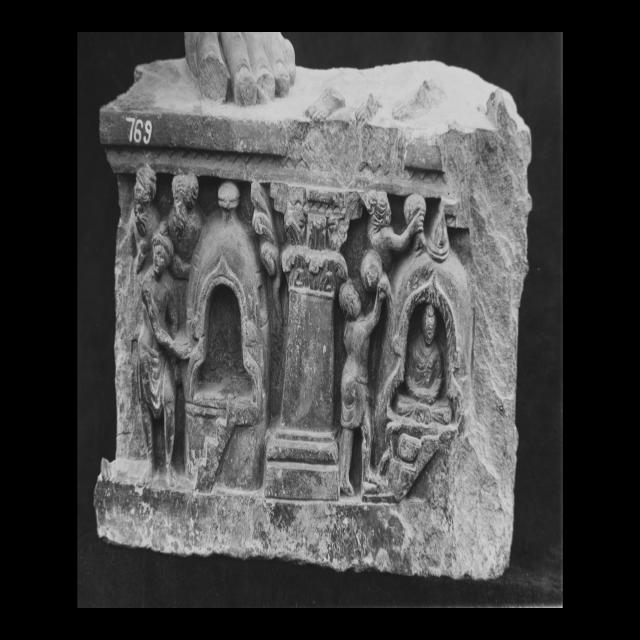buddha-sitting: (395, 304, 452, 424)
